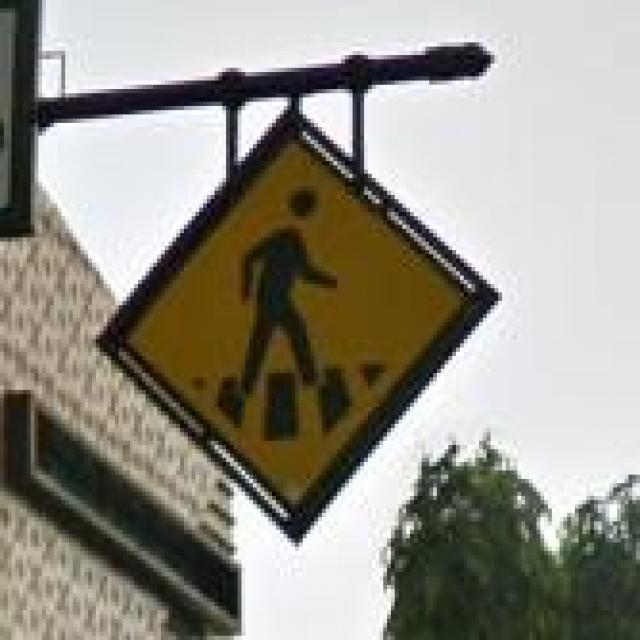traffic sign: (157, 136, 460, 500)
